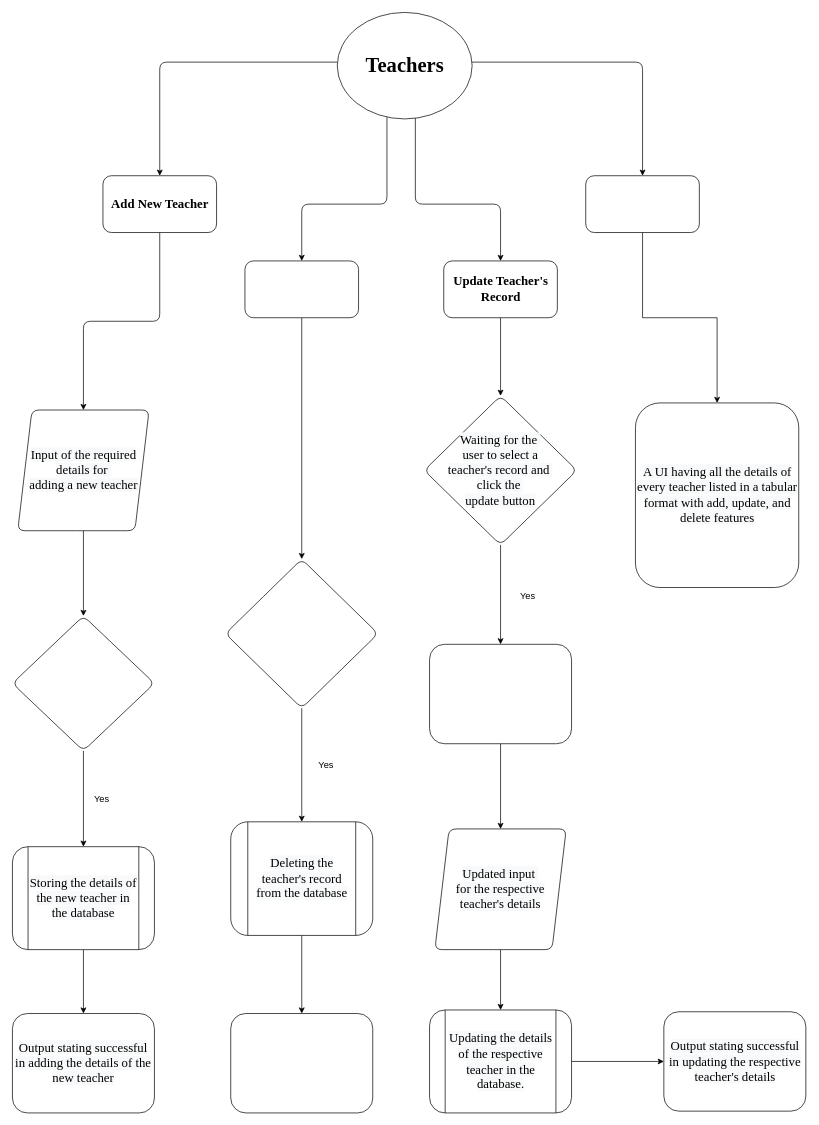
Image size: 819x1125. Some labels were removed from this diagram. The shapes that lost their labels are listed below. From the top down, each one's centre as x and y in pixels, then its label:
At point (642, 204): "Manage Teachers".
At point (301, 289): "Delete Teacher's Record".
At point (301, 633): "Waiting for the user to select a teacher's record and click the delete button".
At point (83, 683): "Waiting for the user to click the save button".
At point (500, 694): "Opening the respective teacher's details in a new form".
At point (301, 1063): "Output stating successful in deleting the respective teacher's details".
